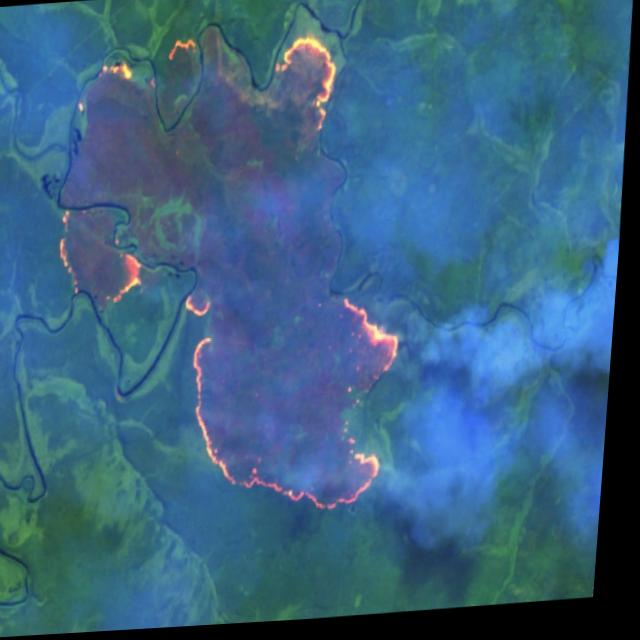fire: (36, 16, 432, 538)
